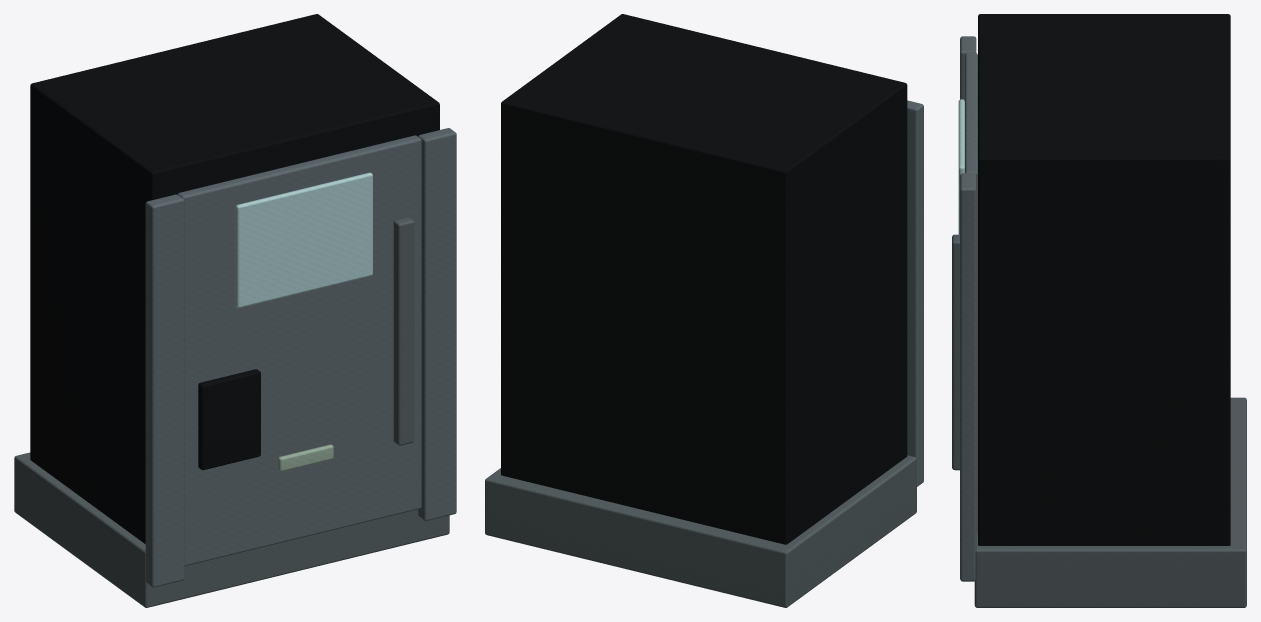
Rendered from SecureEquipmentPod.fbx.
3 views of the same model, side by side, from view 1: azimuth 30°, elevation 25°; view 2: azimuth 150°, elevation 25°; view 3: azimuth 270°, elevation 25° (orthographic). The views are drawn at different scales.
Parts seen in each view (by area): view 1: SecureEquipmentPod_Mesh; view 2: SecureEquipmentPod_Mesh; view 3: SecureEquipmentPod_Mesh.
Boxes of the visible parts, bbox=[...] form: SecureEquipmentPod_Mesh: bbox=[14, 14, 456, 607]; SecureEquipmentPod_Mesh: bbox=[485, 14, 923, 607]; SecureEquipmentPod_Mesh: bbox=[952, 14, 1246, 607].
Size of the model in its own units: 112 by 152 by 91.
